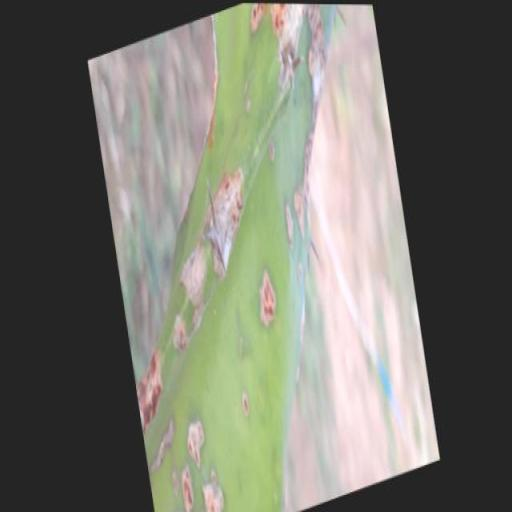stemcanker: (234, 58, 259, 133), (235, 373, 262, 440)
